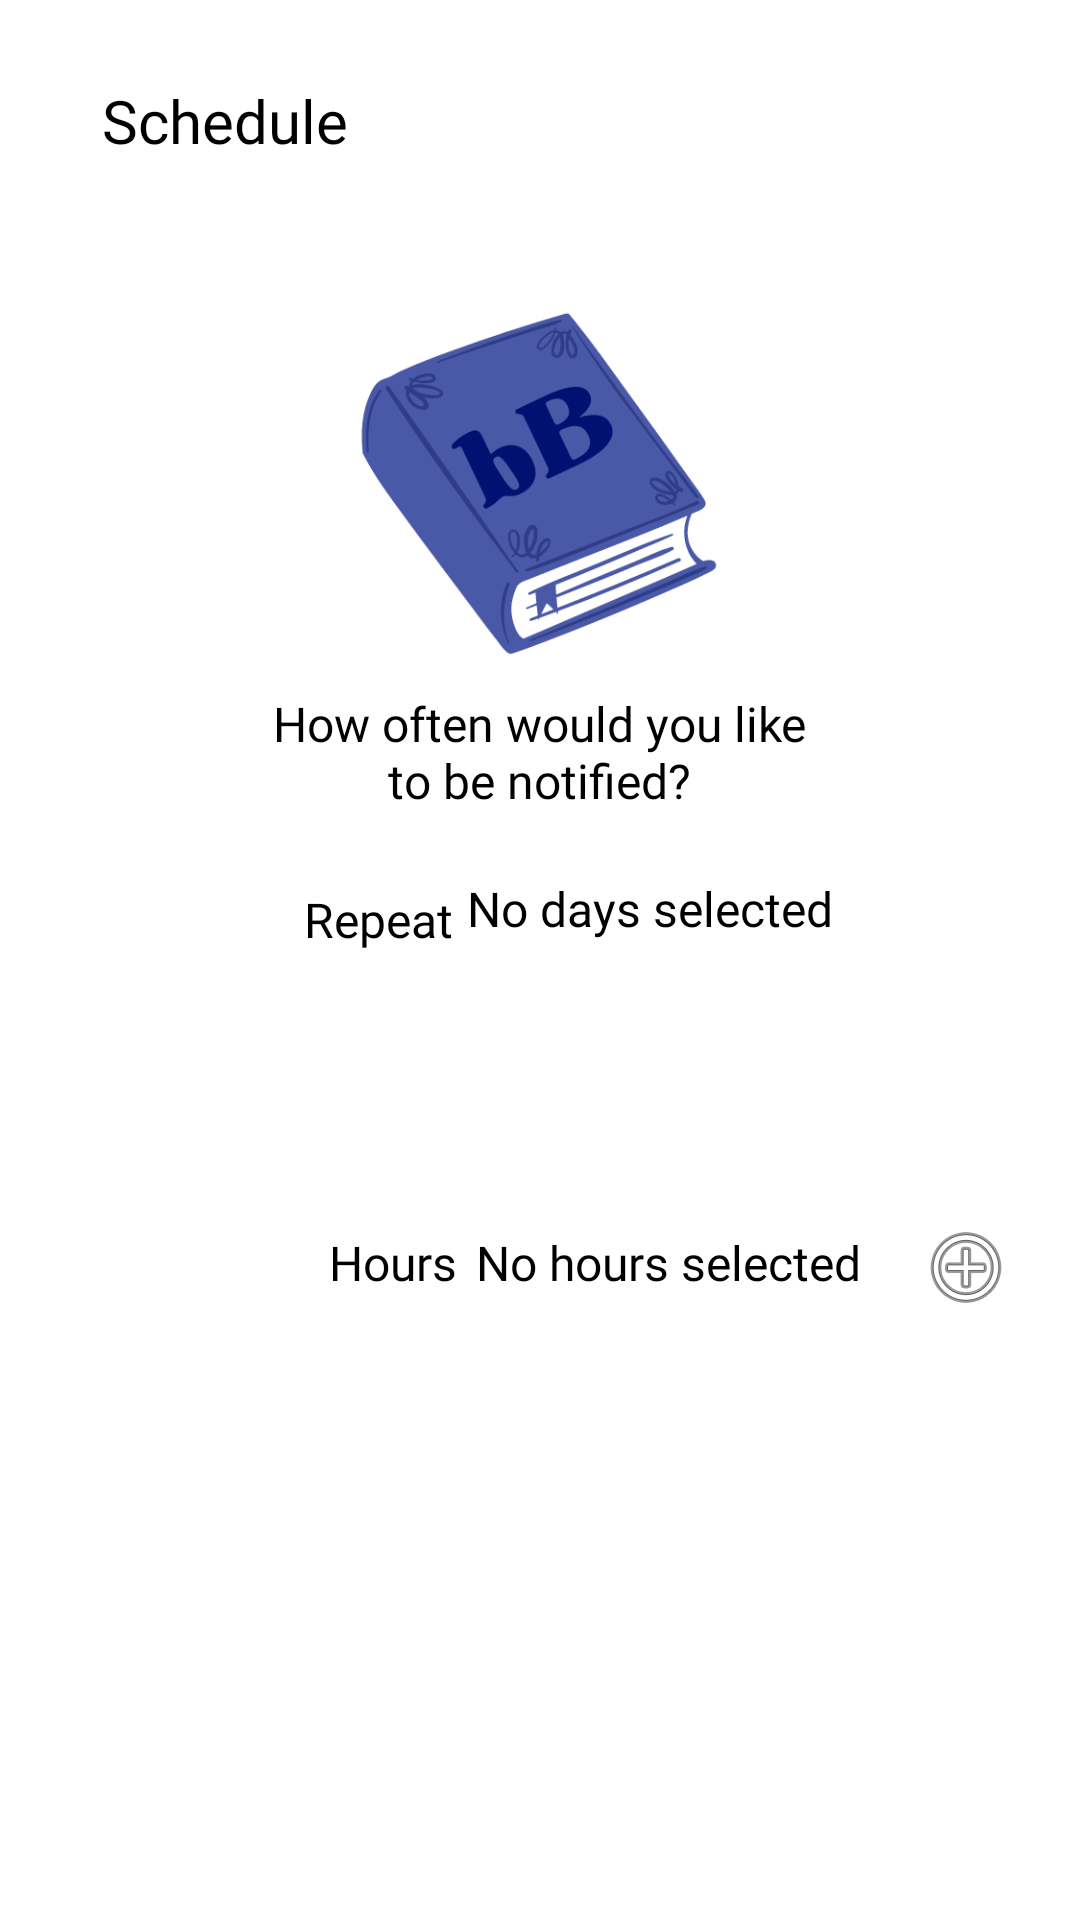

Screen size 1080px x 1920px. Icon name, then its center in pixels as (x,y):
Add time: (966,1267)
